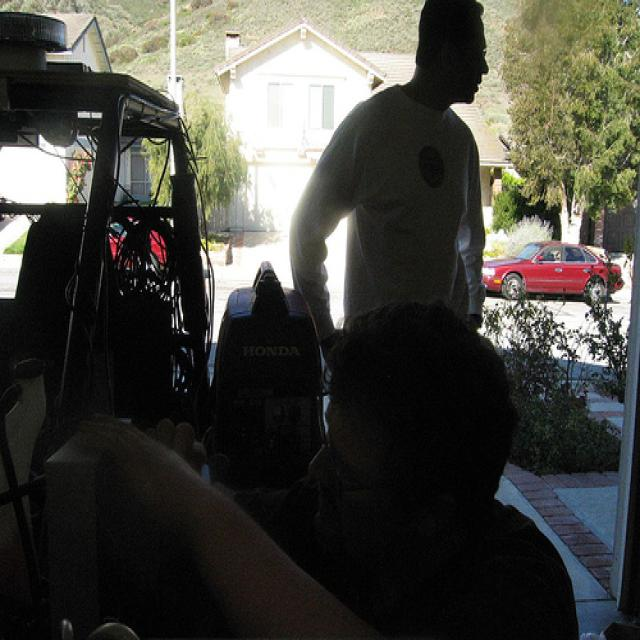car: (481, 240, 626, 306)
person: (75, 298, 581, 639), (289, 1, 490, 370)
